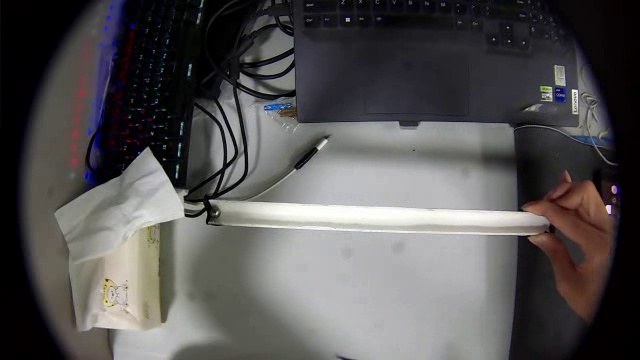gangzhu: (182, 195, 205, 216)
